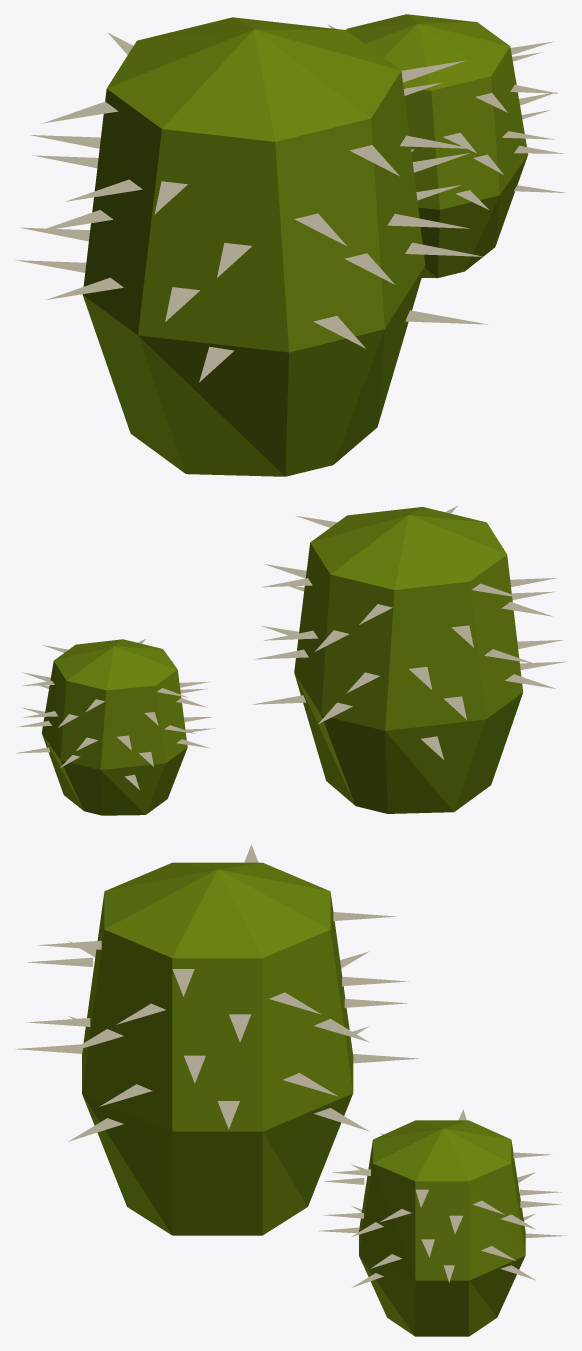
Rendered from obj_cactus_6_0.obj.
3 views of the same model, one above another, from view 1: azimuth 30°, elevation 25°; view 2: azimuth 150°, elevation 25°; view 3: azimuth 270°, elevation 25° (orthographic). The views are drawn at different scales.
Bounding box in the file's own units: 1.71 × 1 × 1.53.
